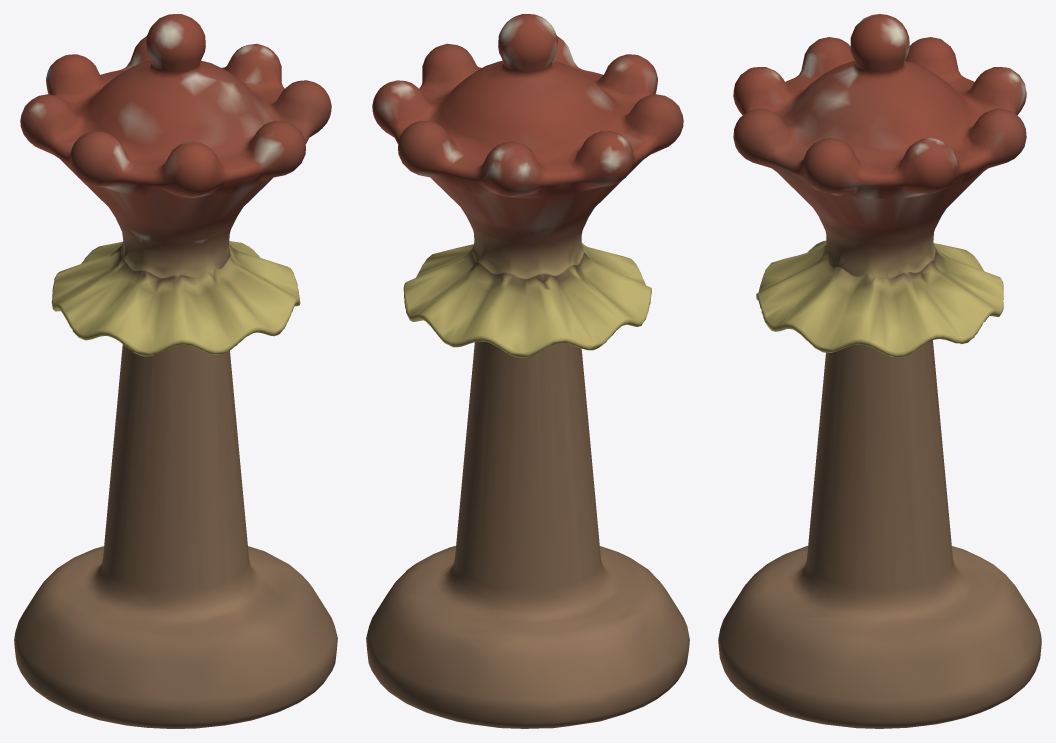
The model's file is queen-dark.glb.
3 renders of one model, left to right at view 1: azimuth 30°, elevation 25°; view 2: azimuth 150°, elevation 25°; view 3: azimuth 270°, elevation 25°, orthographic.
Visible parts, largest first — view 1: body; view 2: body; view 3: body.
Part boxes in pixels (x1,y1,x2,y2): body: (14, 14, 337, 728); body: (366, 14, 689, 728); body: (718, 14, 1041, 728).
Bounding box in the file's own units: 2.27 × 5.06 × 2.28.
